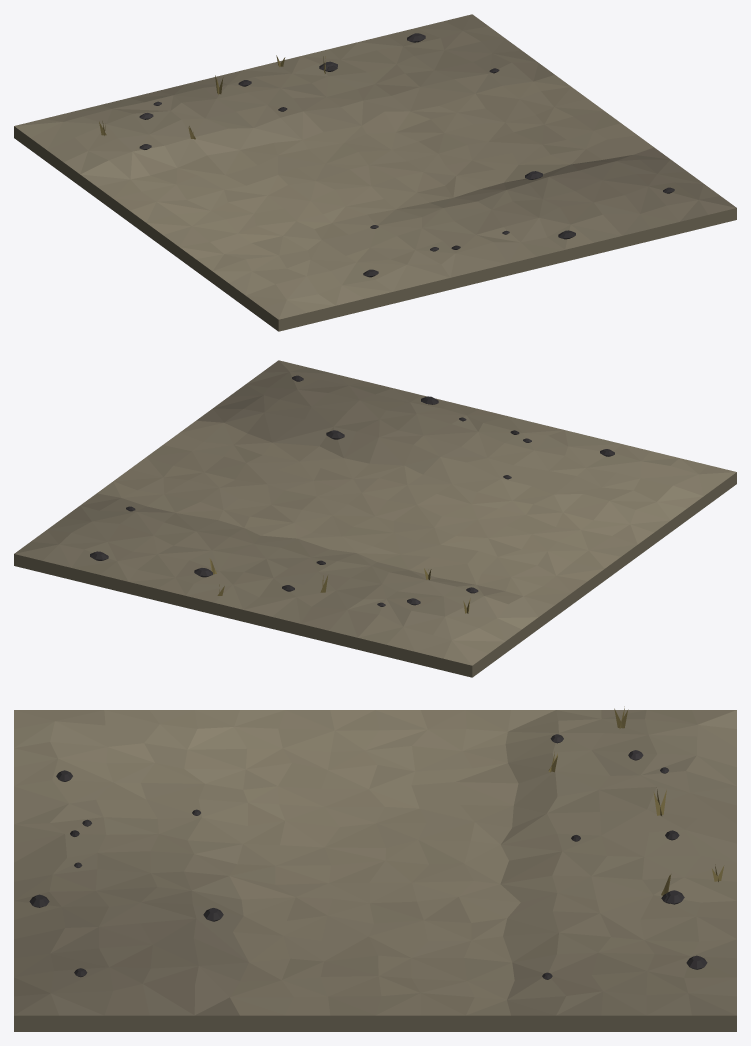
The model's file is CHUNK_TRANS_glass_ash_desert__dead_furnace_wastes__0.glb.
The picture shows the model from 3 angles, top to bottom: view 1: azimuth 30°, elevation 25°; view 2: azimuth 150°, elevation 25°; view 3: azimuth 270°, elevation 25°; orthographic projection. The views are drawn at different scales.
Parts seen in each view (by area): view 1: CHUNK_TRANS_glass_ash_desert__dead_furnace_wastes__0; view 2: CHUNK_TRANS_glass_ash_desert__dead_furnace_wastes__0; view 3: CHUNK_TRANS_glass_ash_desert__dead_furnace_wastes__0.
Boxes of the visible parts, x1,y1,x2,y2 form: CHUNK_TRANS_glass_ash_desert__dead_furnace_wastes__0: (14,14,736,331); CHUNK_TRANS_glass_ash_desert__dead_furnace_wastes__0: (14,360,736,677); CHUNK_TRANS_glass_ash_desert__dead_furnace_wastes__0: (14,706,736,1031).
Size of the model in its own units: 8 by 0.6633 by 8.
